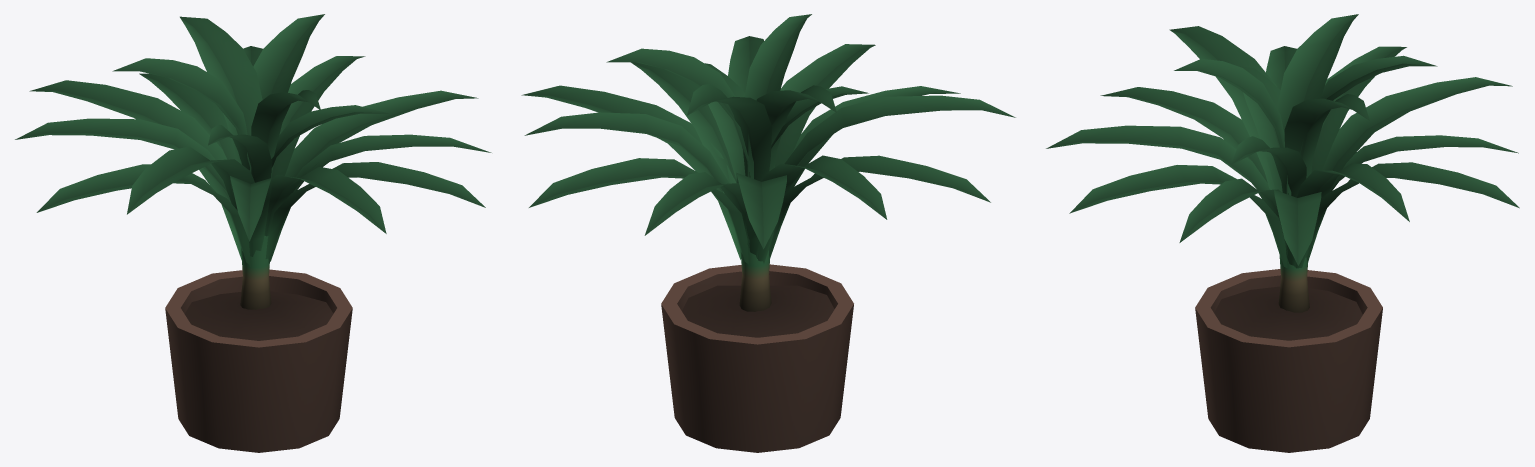
File: trees-plants-saplings-potted-plant_v1.fbx
The picture shows the model from 3 angles, left to right: view 1: azimuth 30°, elevation 25°; view 2: azimuth 150°, elevation 25°; view 3: azimuth 270°, elevation 25°; orthographic projection. The views are drawn at different scales.
Parts seen in each view (by area): view 1: Potted Plant; view 2: Potted Plant; view 3: Potted Plant.
Boxes of the visible parts, x1,y1,x2,y2 form: Potted Plant: [15, 14, 491, 452]; Potted Plant: [521, 14, 1015, 452]; Potted Plant: [1046, 14, 1519, 452].
Bounding box in the file's own units: 0.6 × 0.4546 × 0.5471.
